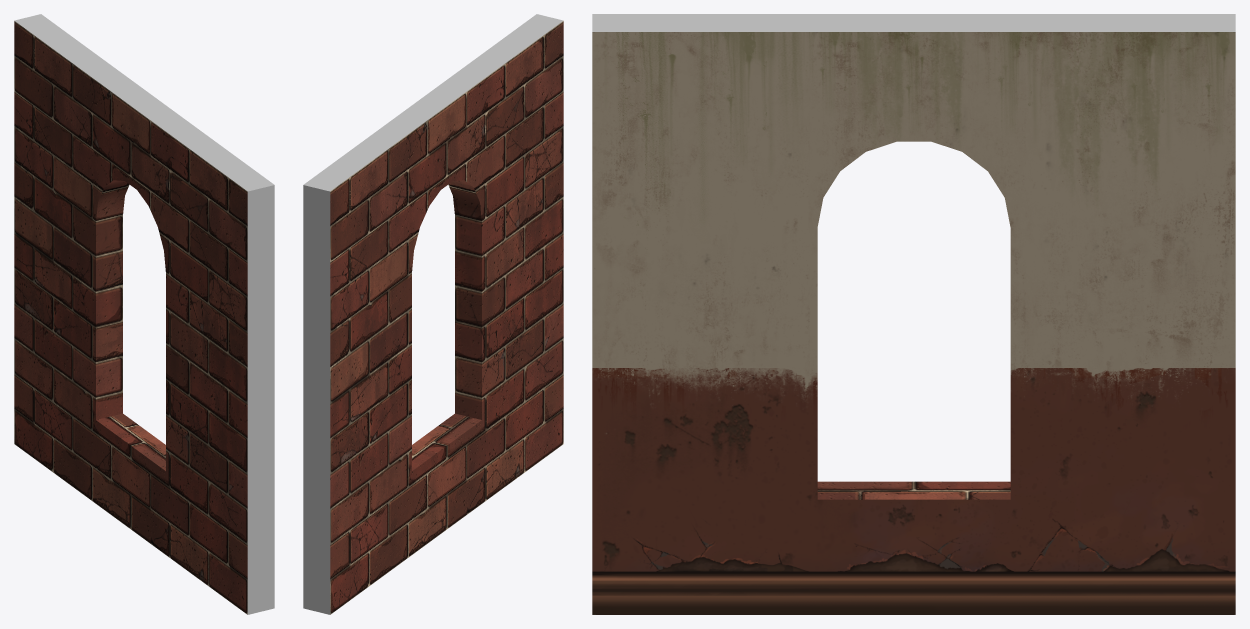
The model's file is wall01_window1m_C.fbx.
3 renders of one model, left to right at view 1: azimuth 30°, elevation 25°; view 2: azimuth 150°, elevation 25°; view 3: azimuth 270°, elevation 25°, orthographic. The views are drawn at different scales.
Parts seen in each view (by area): view 1: wall01_window1m_C; view 2: wall01_window1m_C; view 3: wall01_window1m_C.
Part boxes in pixels (x1,y1,x2,y2): wall01_window1m_C: (14, 14, 274, 614); wall01_window1m_C: (303, 14, 563, 614); wall01_window1m_C: (592, 14, 1235, 614).
Size of the model in its own units: 20 by 300 by 300.
